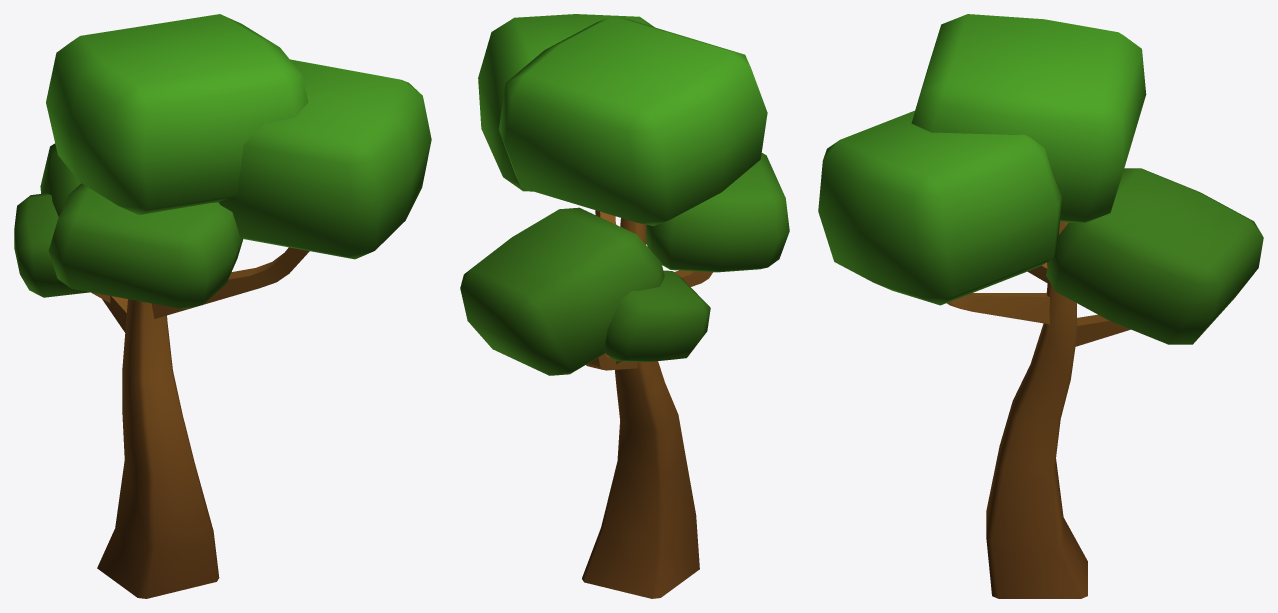
File: Tree_B_7_.glb
The picture shows the model from 3 angles, left to right: view 1: azimuth 30°, elevation 25°; view 2: azimuth 150°, elevation 25°; view 3: azimuth 270°, elevation 25°; orthographic projection. The views are drawn at different scales.
Visible parts, largest first — view 1: Tree_B_7; view 2: Tree_B_7; view 3: Tree_B_7.
Part boxes in pixels (<box>): Tree_B_7: <box>14,14,431,598</box>; Tree_B_7: <box>460,14,789,598</box>; Tree_B_7: <box>818,14,1263,598</box>.
Size of the model in its own units: 2.95 by 4.38 by 3.29.
1 material, 1 textured.
